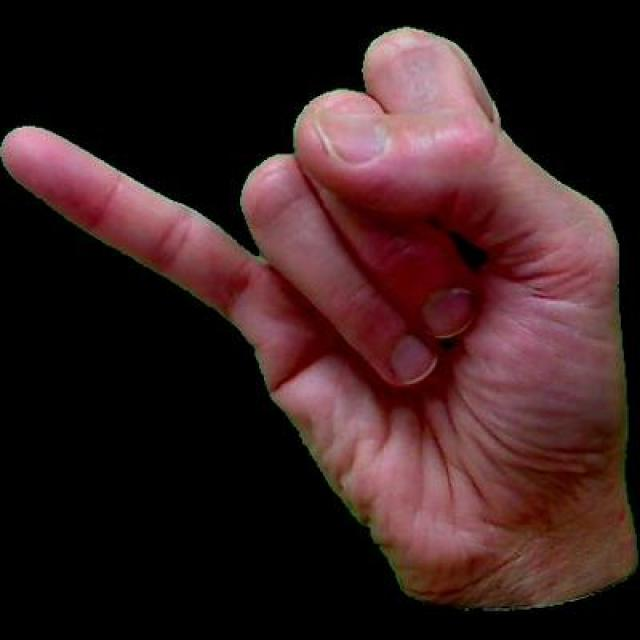j: (0, 19, 637, 613)
